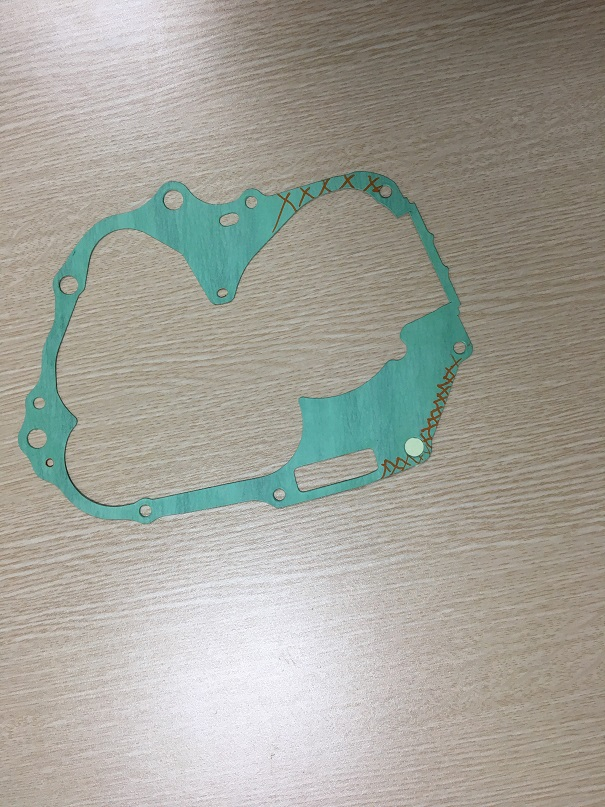type3: (12, 171, 483, 535)
